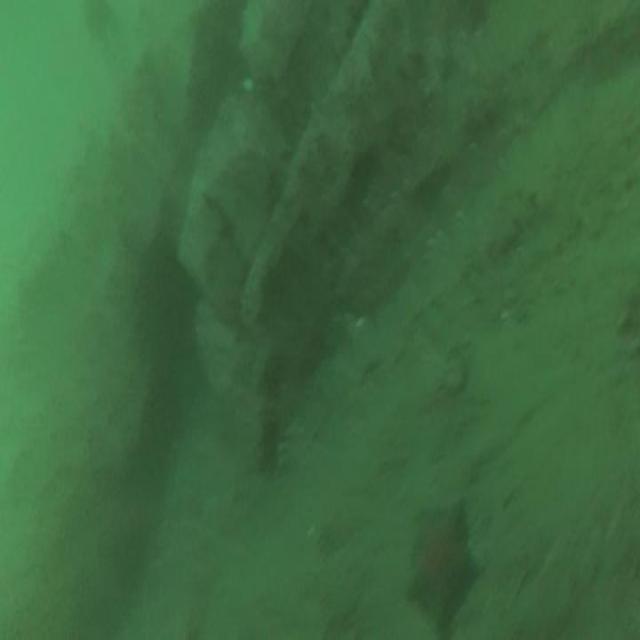starfish: (405, 501, 481, 630)
